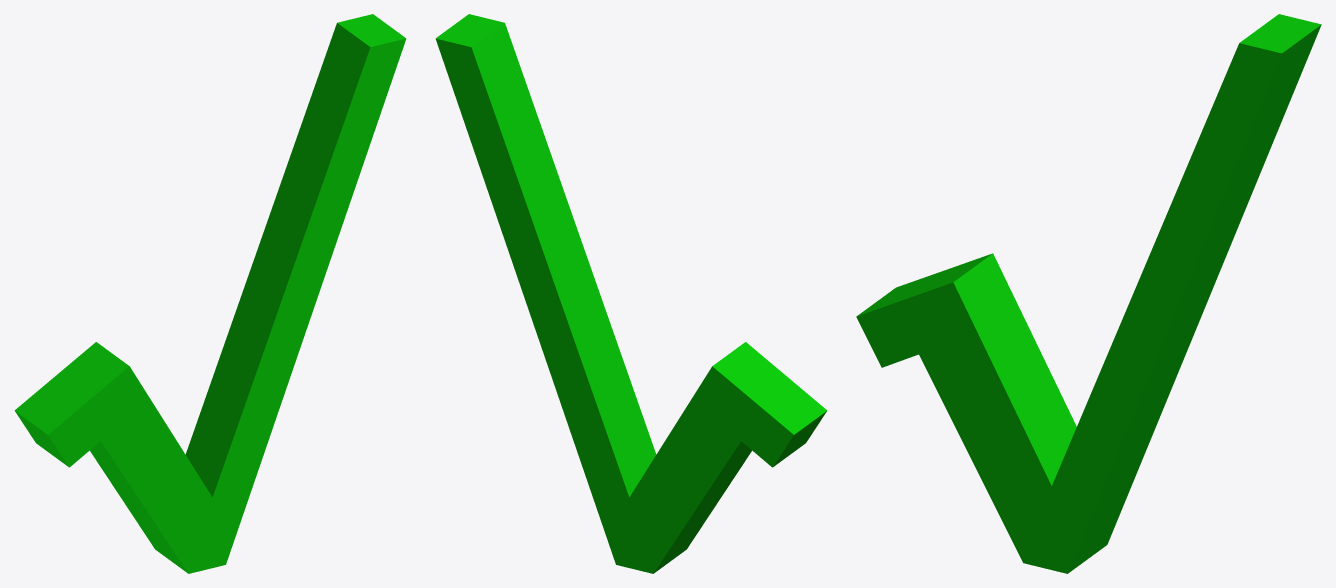
The model's file is CheckMark.dae.
3 renders of one model, left to right at view 1: azimuth 30°, elevation 25°; view 2: azimuth 150°, elevation 25°; view 3: azimuth 330°, elevation 25°, orthographic. The views are drawn at different scales.
Visible parts, largest first — view 1: typeMesh1; view 2: typeMesh1; view 3: typeMesh1.
Part boxes in pixels (left/top/right/bottom): typeMesh1: left=14, top=14, right=406, bottom=573; typeMesh1: left=435, top=14, right=827, bottom=573; typeMesh1: left=856, top=14, right=1321, bottom=573.
Bounding box in the file's own units: 5.1 × 6.56 × 0.8251.
